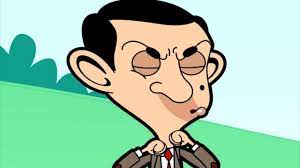mrbean: (66, 4, 228, 168)
